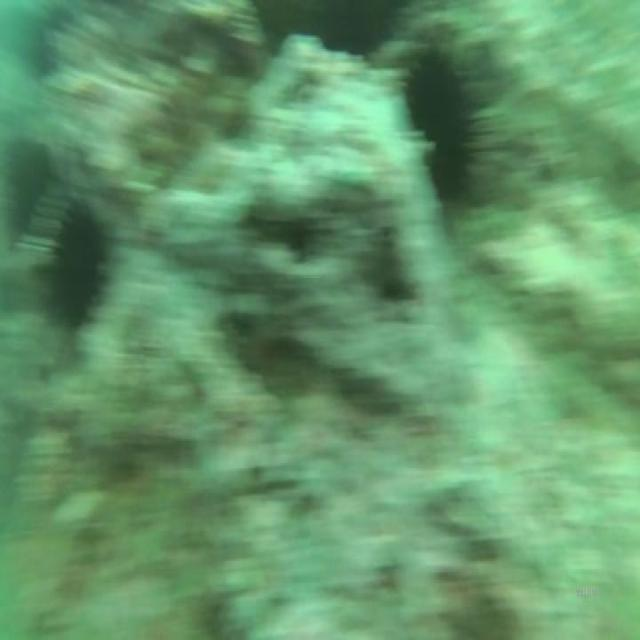echinus: (400, 28, 479, 214), (41, 180, 111, 338)
